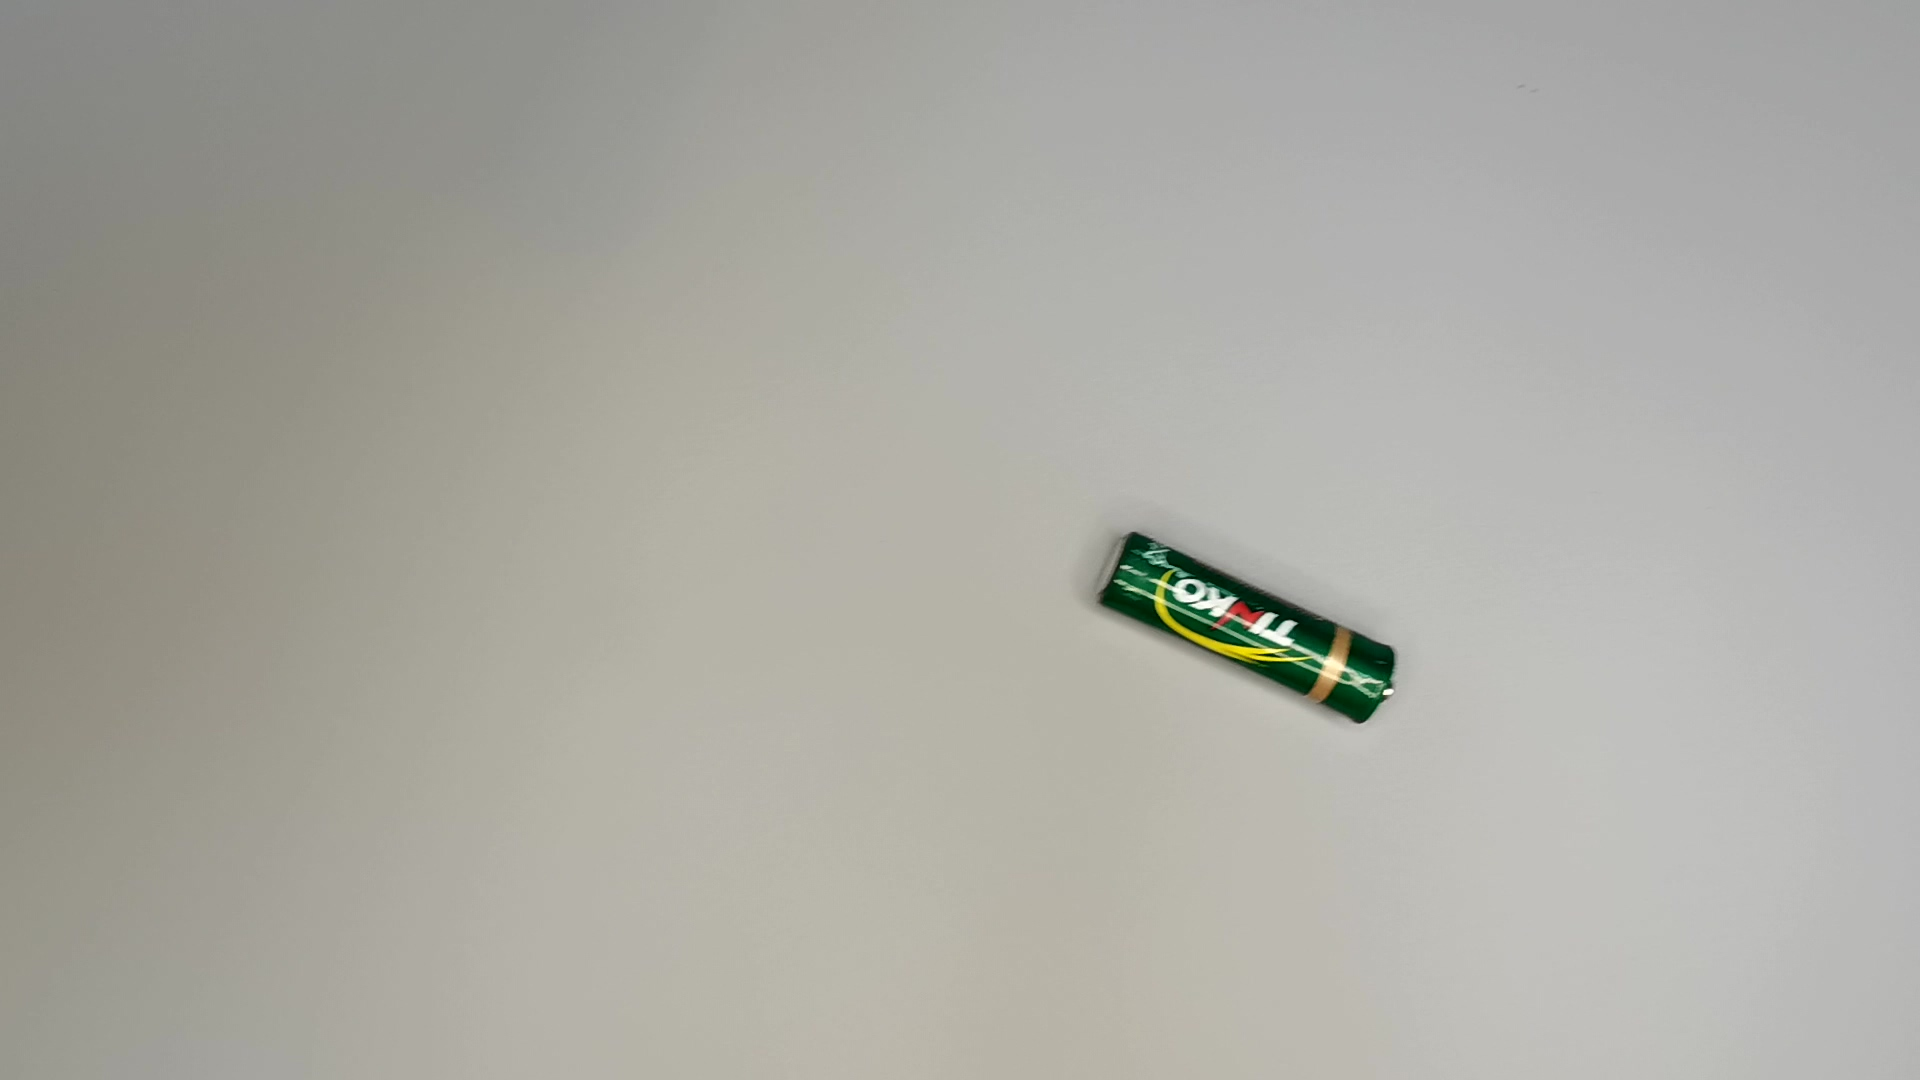battery: (1087, 524, 1399, 737)
